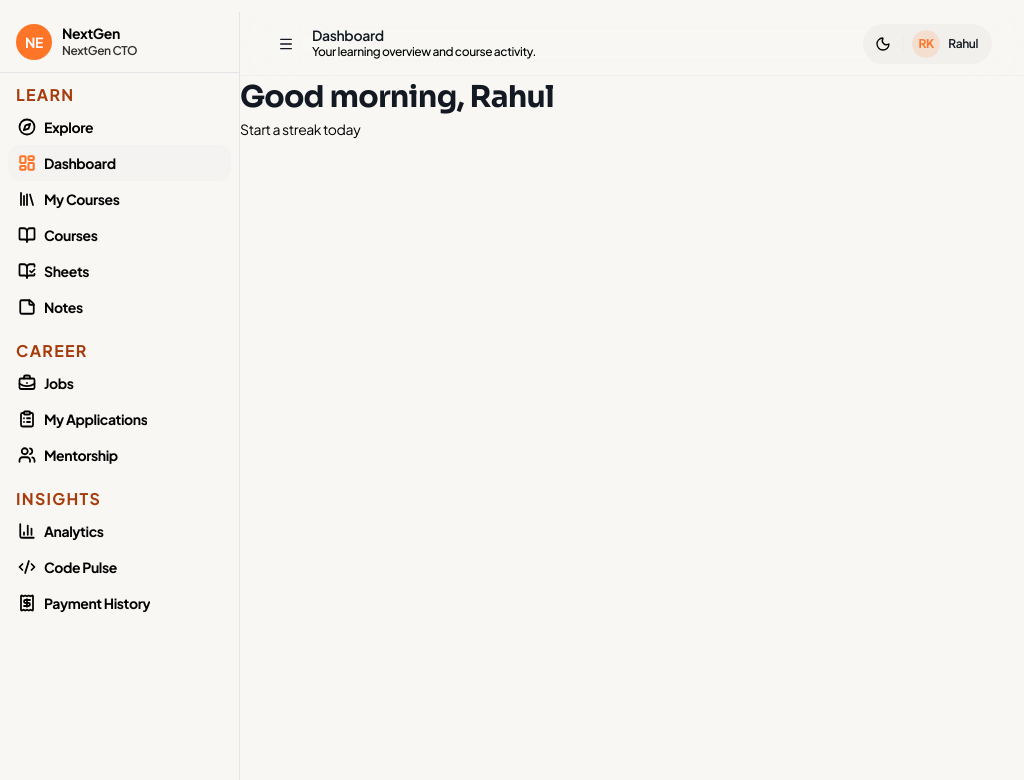
Test case: Student dashboard sidebar navigation state › changes the Dashboard state to Notes when Notes is clicked
This screenshot has width=1024, height=780.
Expected: the text "Your learning overview and course activity." is shown, 312,44 -> 536,60
Expected: the heading "Good morning, Rahul" is shown, 240,80 -> 554,114
Note: Act — click destination navigation item
Click the link "Notes".
click(50, 307)  # box 18,298 -> 83,316
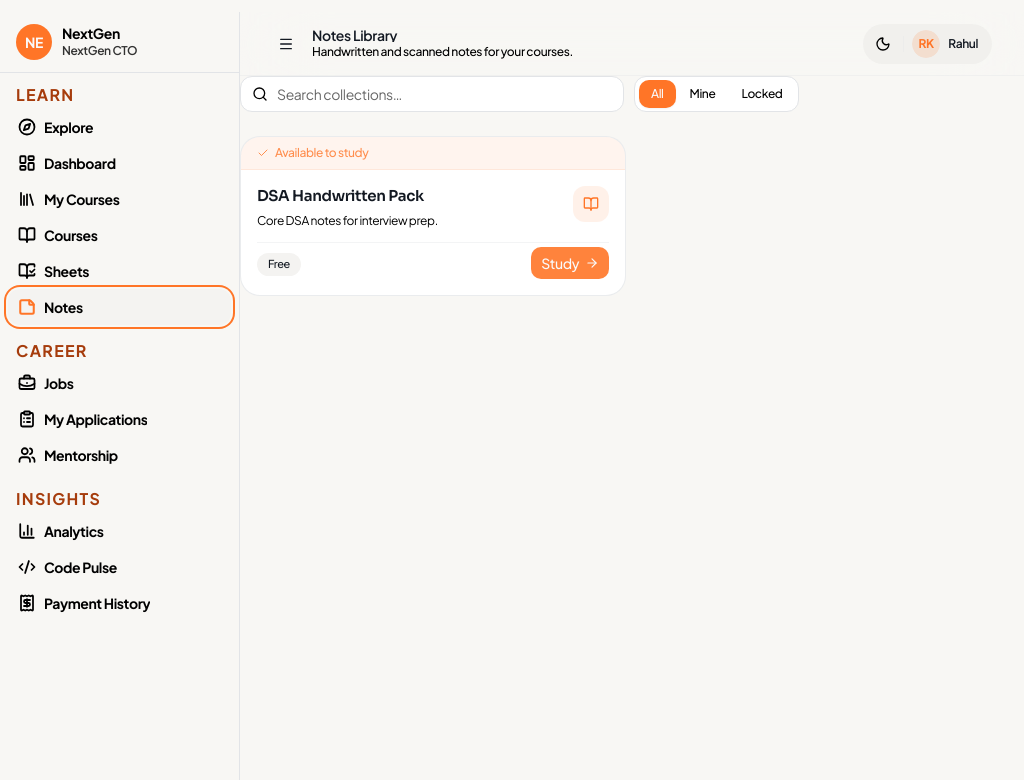
Expected: the field with placeholder "Search collections…" is shown, 240,76 -> 624,112
Expected: the radio button labelled "Mine" is shown, 678,80 -> 727,108
Expected: the radio button labelled "Locked" is shown, 729,80 -> 794,108
